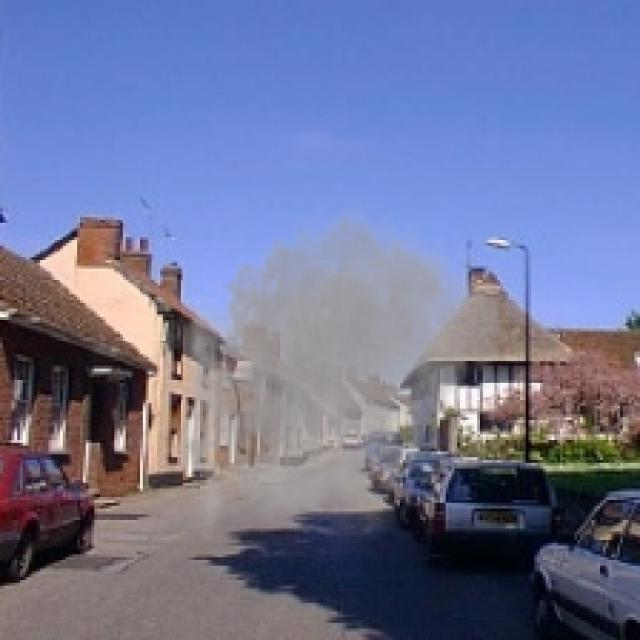Smoke: (163, 195, 512, 554)
